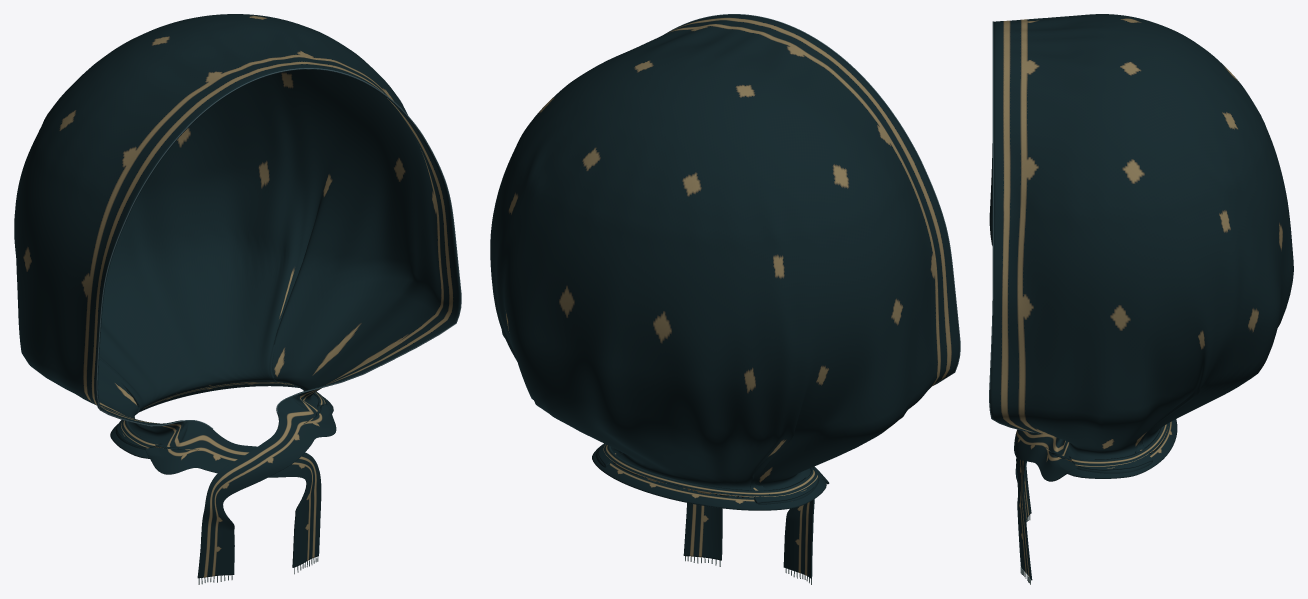
Rendered from Masculine-shirtless-pashmina242-headgear.glb.
The picture shows the model from 3 angles, left to right: view 1: azimuth 30°, elevation 25°; view 2: azimuth 150°, elevation 25°; view 3: azimuth 270°, elevation 25°; orthographic projection. The views are drawn at different scales.
Parts seen in each view (by area): view 1: 226 headgear / Headwear / continuous woven pashmina239, 226 headgear / Headwear / face edge239; view 2: 226 headgear / Headwear / continuous woven pashmina239, 226 headgear / Headwear / face edge239; view 3: 226 headgear / Headwear / continuous woven pashmina239, 226 headgear / Headwear / face edge239.
Boxes of the visible parts, left/top/right/bottom form: 226 headgear / Headwear / continuous woven pashmina239: left=14, top=14, right=460, bottom=578; 226 headgear / Headwear / face edge239: left=96, top=68, right=461, bottom=429; 226 headgear / Headwear / continuous woven pashmina239: left=490, top=14, right=959, bottom=578; 226 headgear / Headwear / face edge239: left=664, top=14, right=960, bottom=385; 226 headgear / Headwear / continuous woven pashmina239: left=989, top=14, right=1293, bottom=580; 226 headgear / Headwear / face edge239: left=989, top=21, right=1038, bottom=433.
Size of the model in its own units: 1.03 by 1.35 by 0.7127.
Materials: 3 (1 with a texture image).
